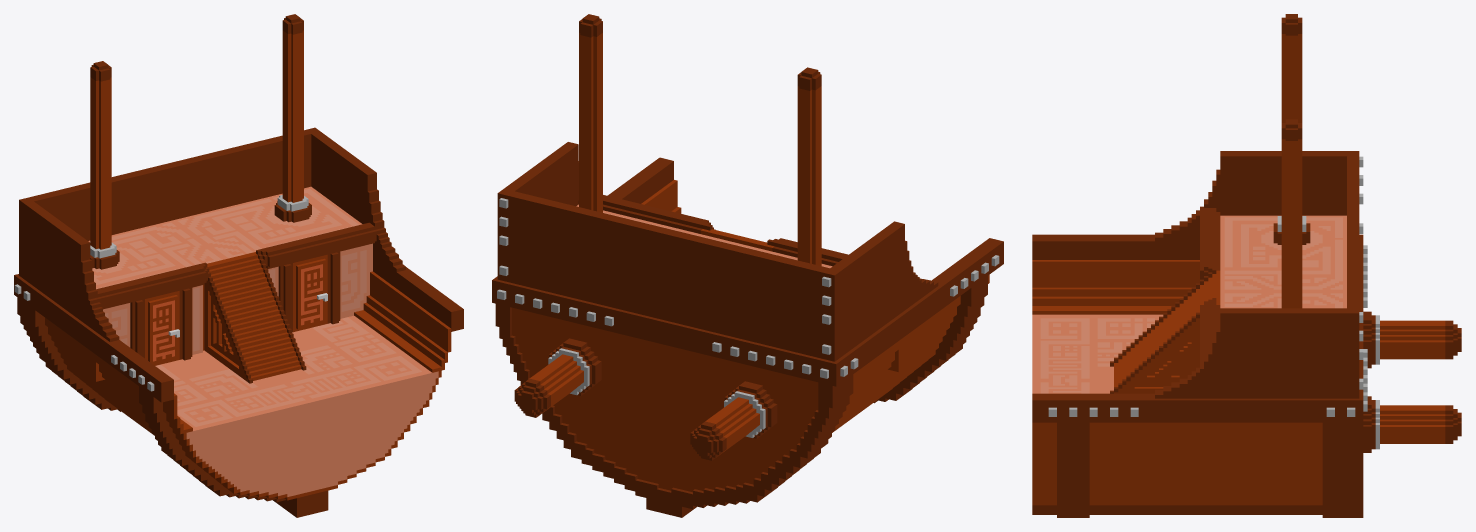
File: BoatBack 1.obj
3 renders of one model, left to right at view 1: azimuth 30°, elevation 25°; view 2: azimuth 150°, elevation 25°; view 3: azimuth 270°, elevation 25°, orthographic. The views are drawn at different scales.
Size of the model in its own units: 98 by 118 by 105.
1 material, 1 textured.
